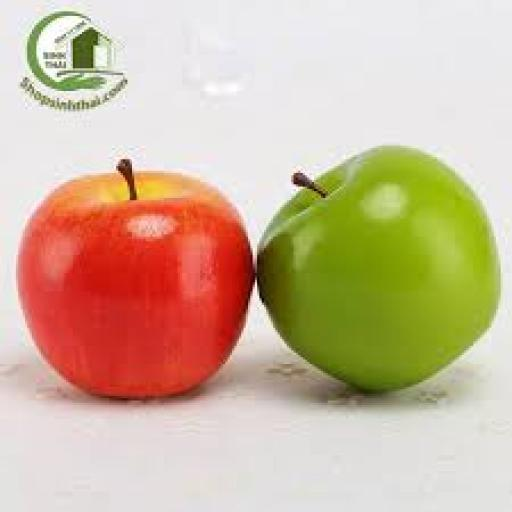apple: (258, 146, 500, 391), (19, 160, 252, 398)
